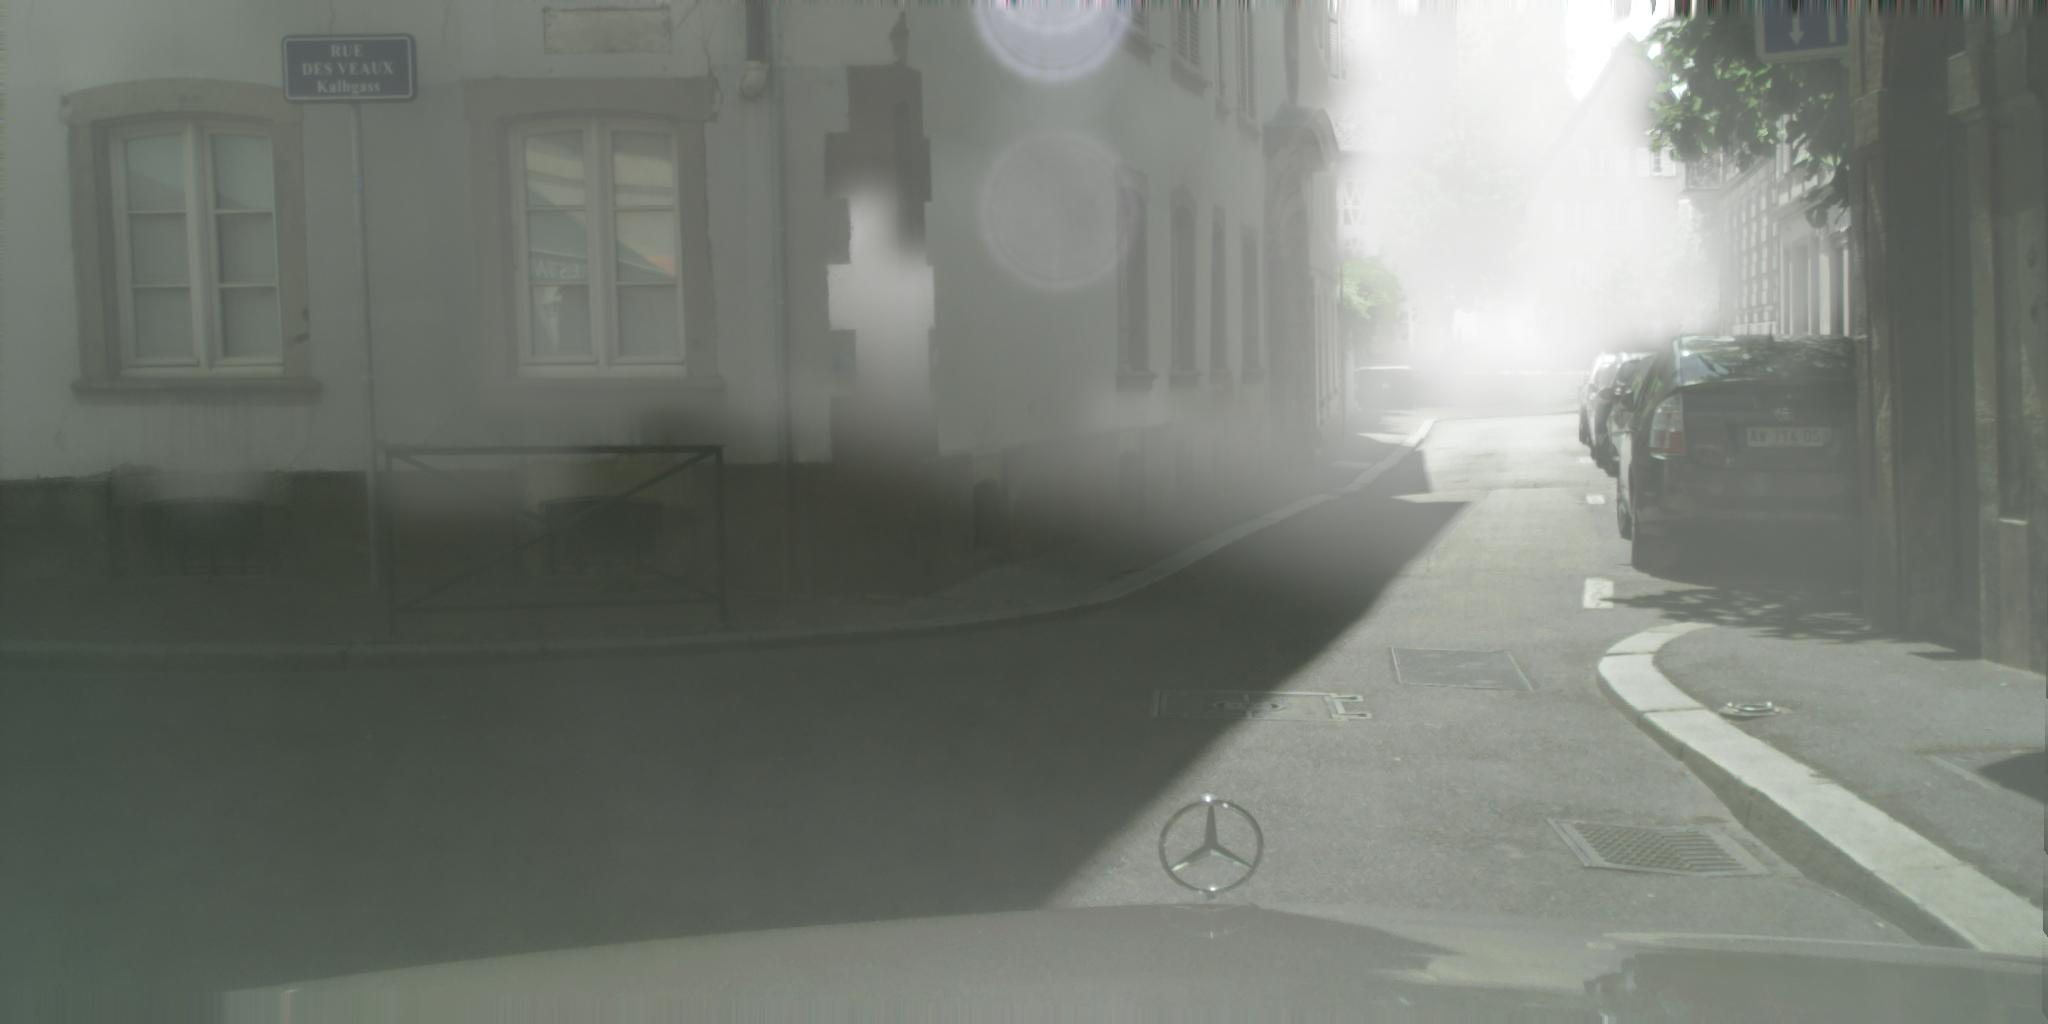car: (1618, 334, 1861, 573), (1590, 353, 1664, 469), (1603, 355, 1673, 477), (1579, 354, 1625, 444)
